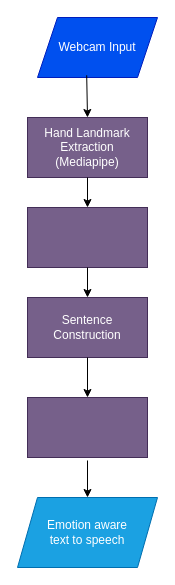
This 175x585 diagram has some shape labels left out. The box of each missing label's shape, as (x1, y1, x2, y2) in pixels:
Emotion Detection: (26, 396, 148, 458)
ML Based sign classification (SVM): (26, 206, 148, 268)
